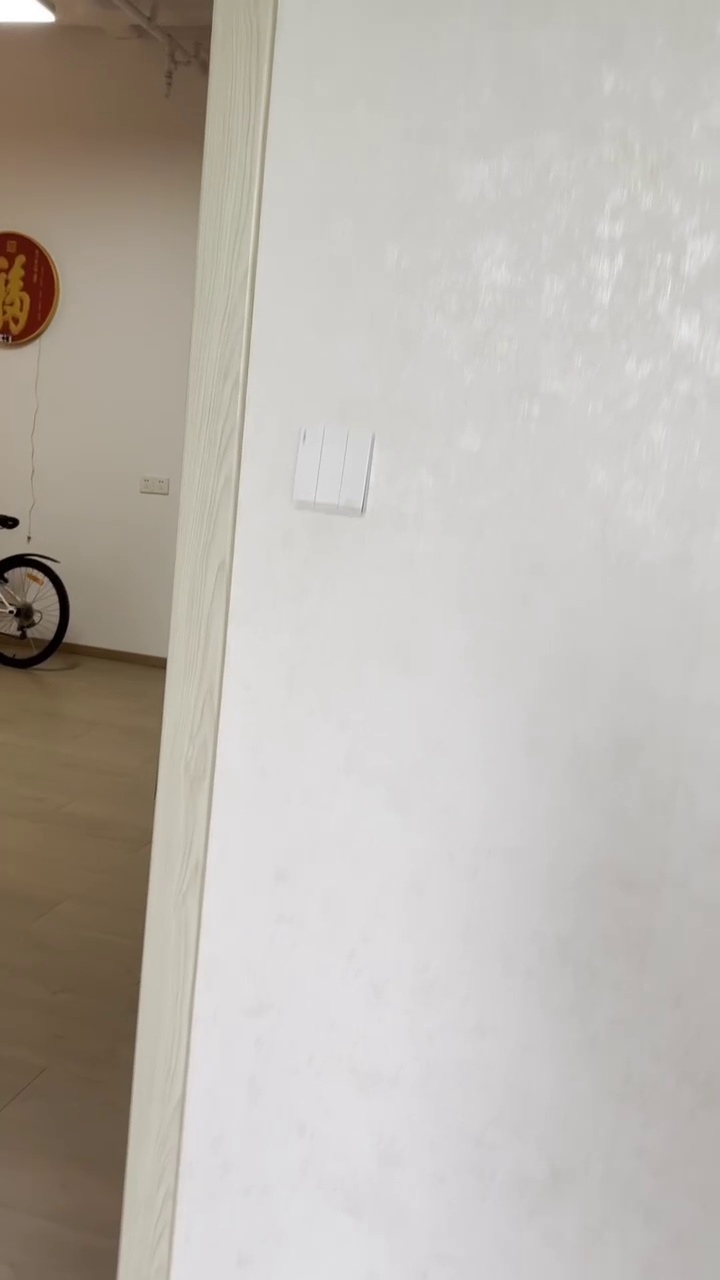button: (292, 427, 378, 514)
